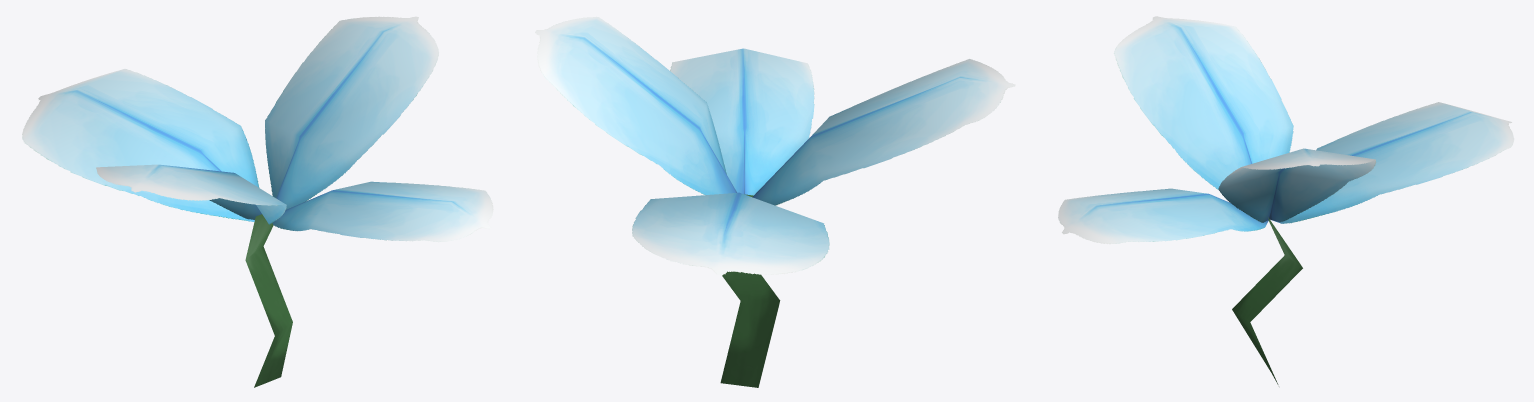
Rendered from Flower04.fbx.
The picture shows the model from 3 angles, left to right: view 1: azimuth 30°, elevation 25°; view 2: azimuth 150°, elevation 25°; view 3: azimuth 270°, elevation 25°; orthographic projection. The views are drawn at different scales.
Visible parts, largest first — view 1: PRP_Flower04; view 2: PRP_Flower04; view 3: PRP_Flower04.
Part boxes in pixels (<box>): PRP_Flower04: <box>22,16,493,387</box>; PRP_Flower04: <box>535,16,1015,387</box>; PRP_Flower04: <box>1058,16,1514,384</box>.
Bounding box in the file's own units: 83.18 × 63.77 × 91.13.
